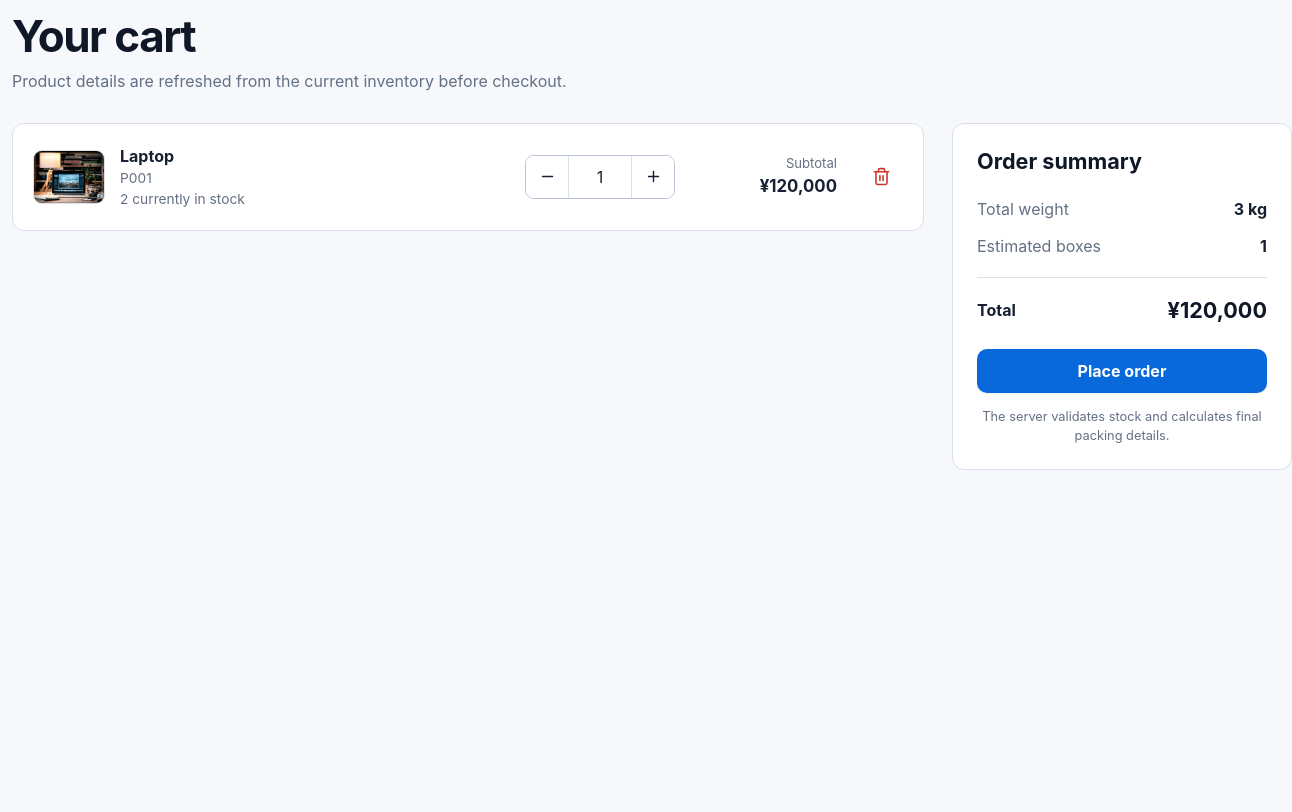
CartPage › clears the cart after a successful order
Click the button "Place order": (1122, 371) left=977, top=349, right=1267, bottom=393
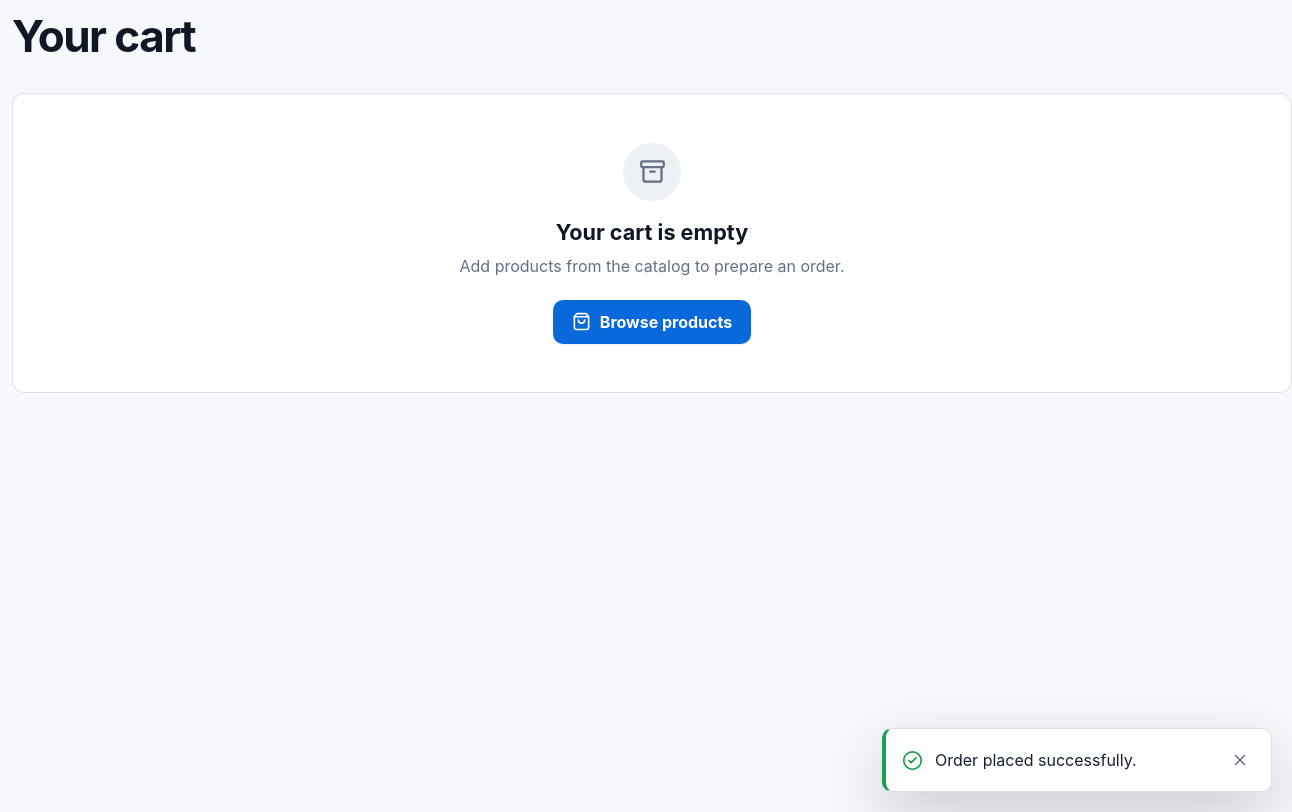
Check: the heading "Your cart is empty" is shown, box left=556, top=219, right=748, bottom=246
